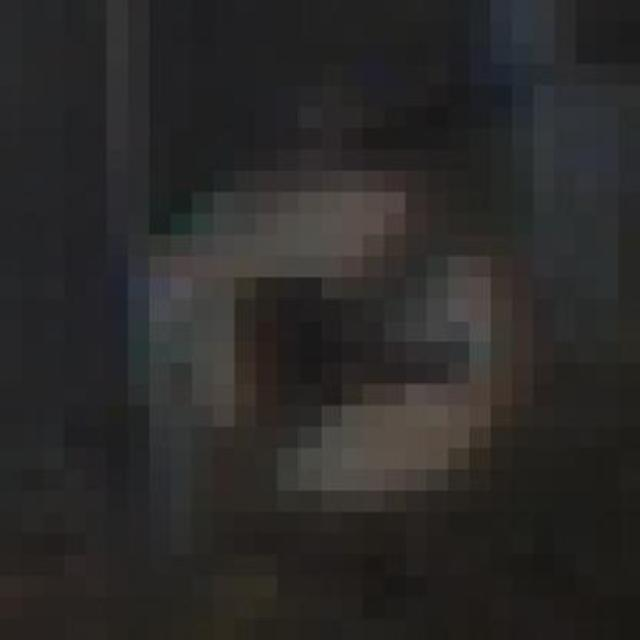Overtaking by trucks is prohibited: (107, 128, 555, 534)
